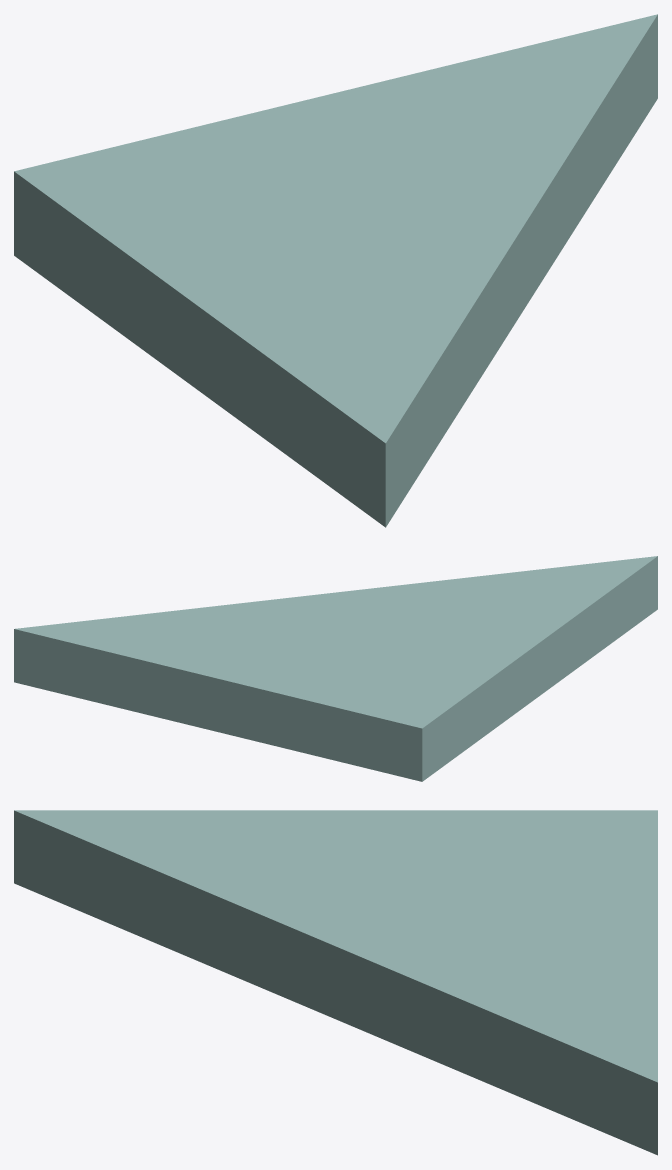
File: CeilLightTri.fbx
3 renders of one model, top to bottom at view 1: azimuth 30°, elevation 25°; view 2: azimuth 150°, elevation 25°; view 3: azimuth 270°, elevation 25°, orthographic. The views are drawn at different scales.
Parts seen in each view (by area): view 1: BFloorTri; view 2: BFloorTri; view 3: BFloorTri.
Part boxes in pixels (x1,y1,x2,y2): BFloorTri: (14,14,657,527); BFloorTri: (14,556,657,781); BFloorTri: (14,810,657,1155).
Size of the model in its own units: 400 by 50 by 400.
